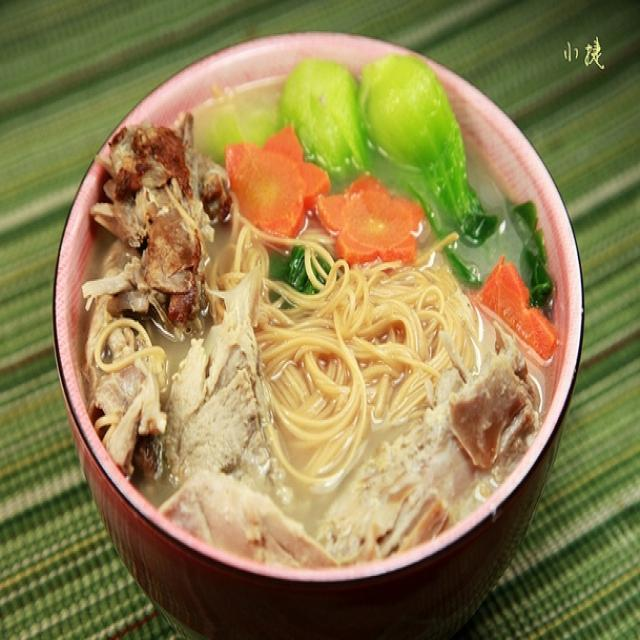面条主食: (43, 28, 594, 618)
